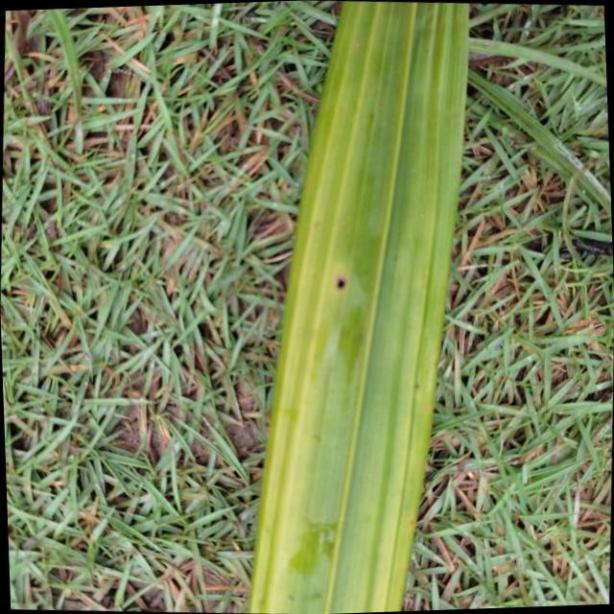nitrogen: (248, 0, 472, 614)
